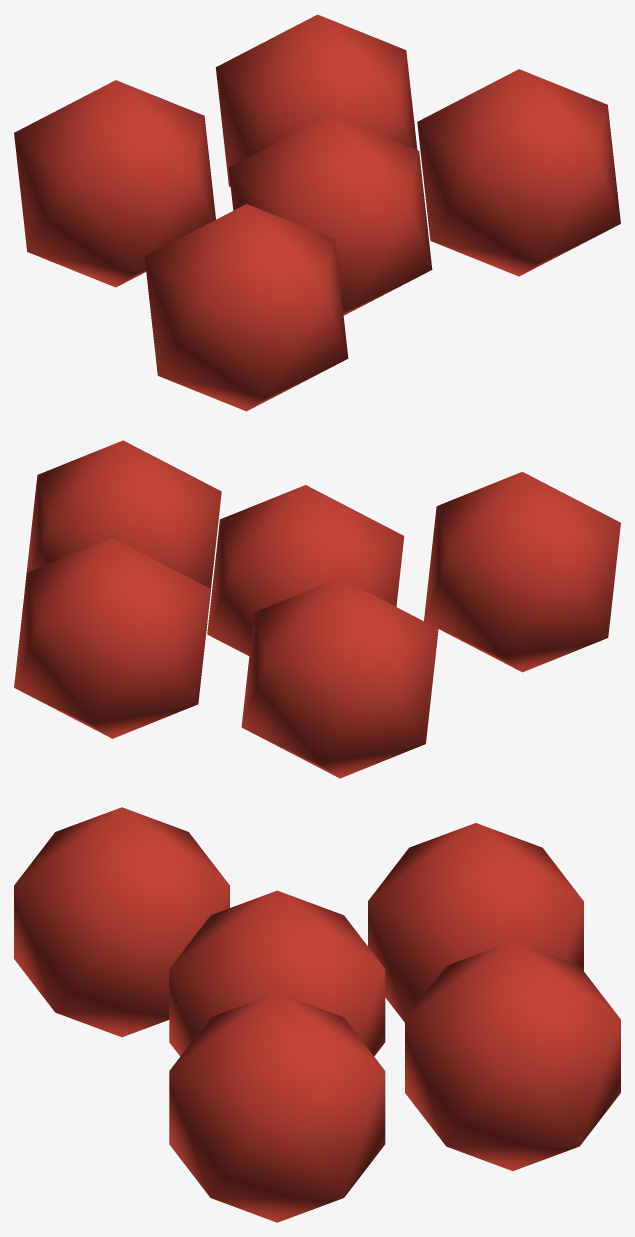
Rendered from spider_eggs.glb.
The picture shows the model from 3 angles, top to bottom: view 1: azimuth 30°, elevation 25°; view 2: azimuth 150°, elevation 25°; view 3: azimuth 270°, elevation 25°; orthographic projection. The views are drawn at different scales.
Parts seen in each view (by area): view 1: spider_eggs; view 2: spider_eggs; view 3: spider_eggs.
Boxes of the visible parts, <box> form: spider_eggs: <box>14,14,620,411</box>; spider_eggs: <box>14,440,620,778</box>; spider_eggs: <box>14,807,620,1222</box>.
Size of the model in its own units: 0.279 by 0.1064 by 0.2544.
